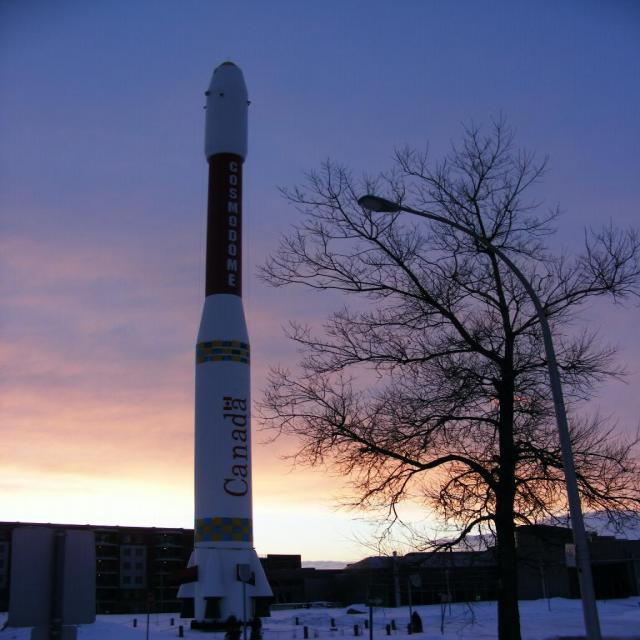missile: (168, 35, 280, 630)
